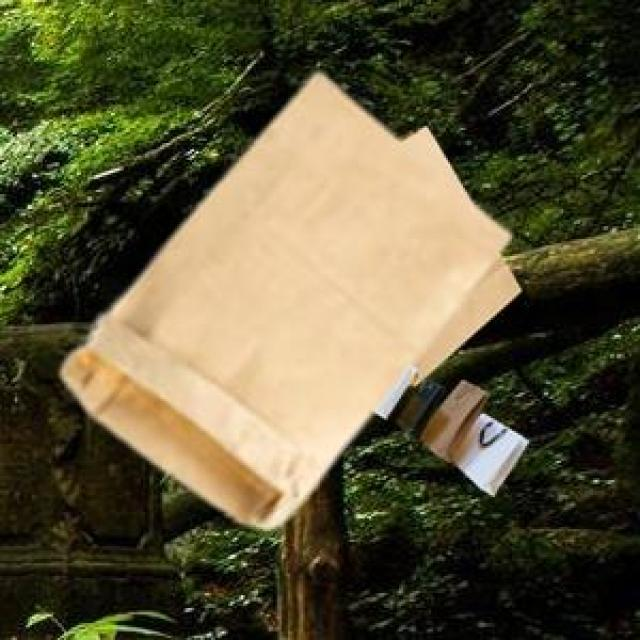Paper -Biodegradable-: (56, 73, 523, 526)
